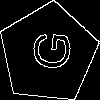G: (23, 28, 72, 72)
